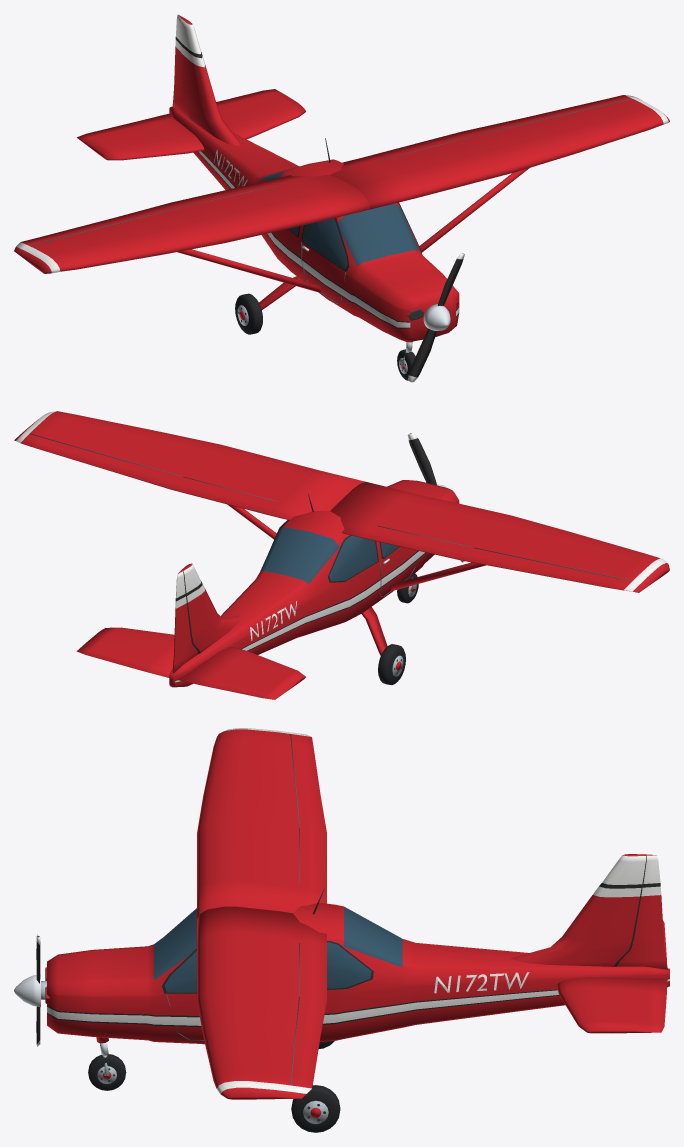
The model's file is cessna_172_red.glb.
3 renders of one model, top to bottom at view 1: azimuth 30°, elevation 25°; view 2: azimuth 150°, elevation 25°; view 3: azimuth 270°, elevation 25°, orthographic. The views are drawn at different scales.
Visible parts, largest first — view 1: Airframe, Propeller, Left main wheel; view 2: Airframe, Left main wheel, Propeller; view 3: Airframe, Right main wheel, Nose wheel, Propeller.
Part boxes in pixels (<box>): Airframe: <box>14,14,669,366</box>; Propeller: <box>407,253,464,382</box>; Left main wheel: <box>235,293,262,334</box>; Airframe: <box>14,411,669,699</box>; Left main wheel: <box>378,644,405,684</box>; Propeller: <box>407,433,464,562</box>; Airframe: <box>41,728,669,1099</box>; Right main wheel: <box>291,1085,340,1132</box>; Nose wheel: <box>88,1054,126,1090</box>; Propeller: <box>14,934,40,1046</box>.
Bounding box in the file's own units: 11.02 × 3.31 × 8.39.
